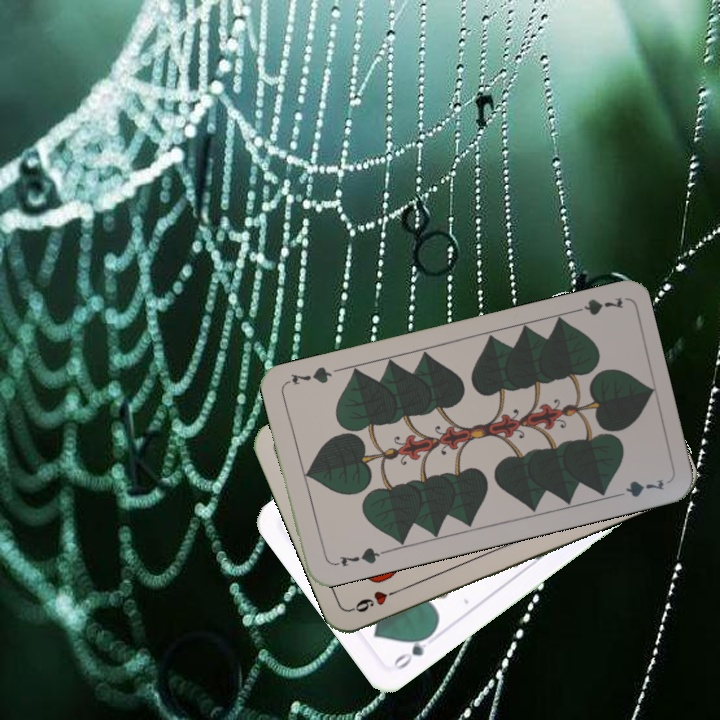G7: (328, 543, 387, 570), (565, 293, 626, 318)
GO: (387, 628, 436, 673)
H9: (348, 584, 404, 615)
